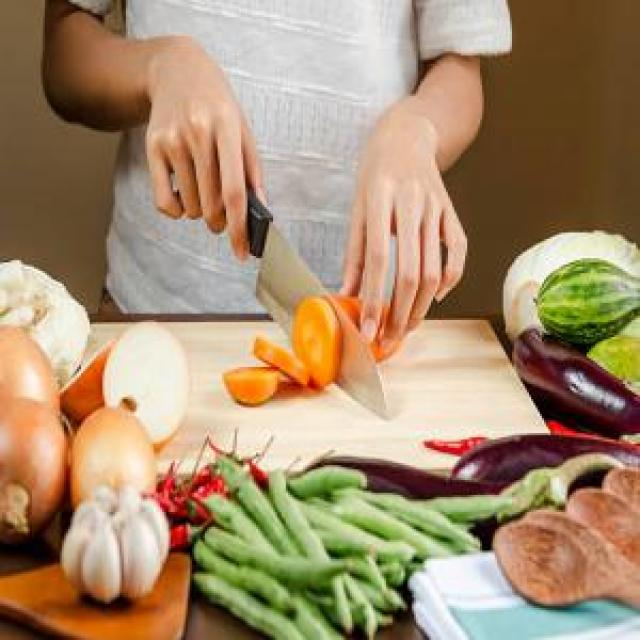knife: (211, 170, 393, 424)
